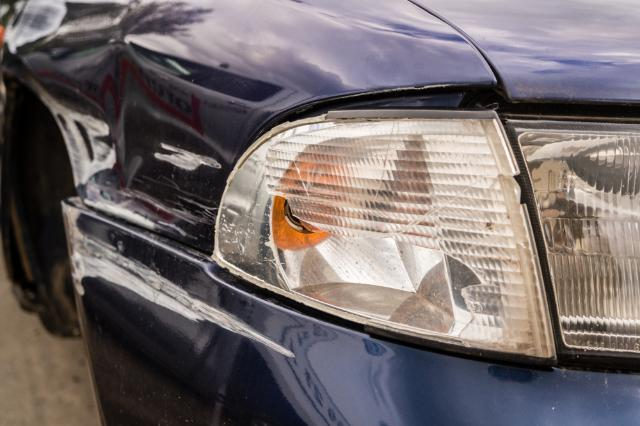dent: (17, 42, 218, 249)
lamp broken: (215, 111, 557, 361)
scratch: (63, 209, 304, 367), (156, 141, 222, 173)
